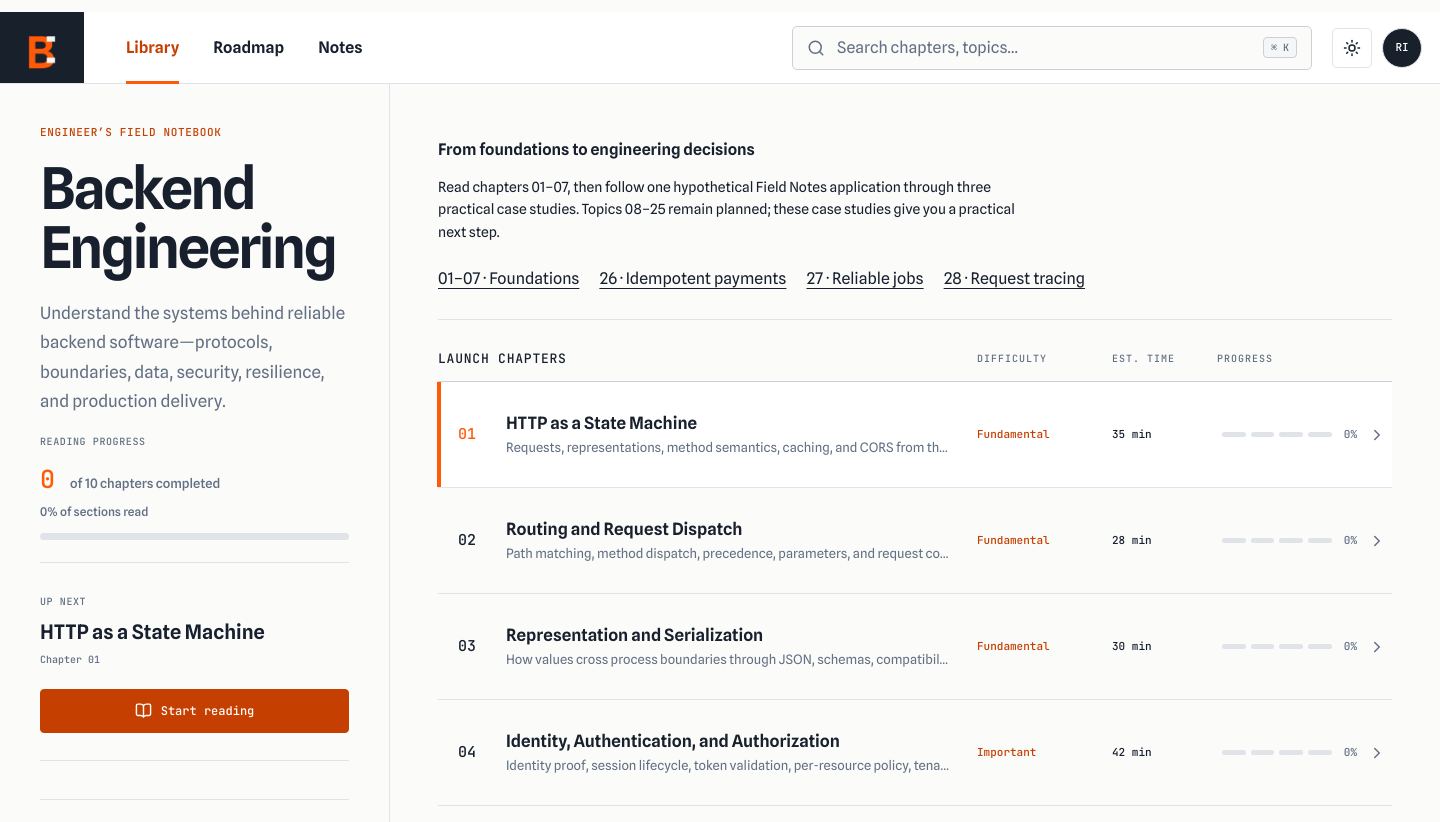
Test: Backend Engineering prototype › starts new readers and moves past completed chapters
Click the button named "Mark chapter 1 complete" at (1290, 435), box [1217, 416, 1362, 453]
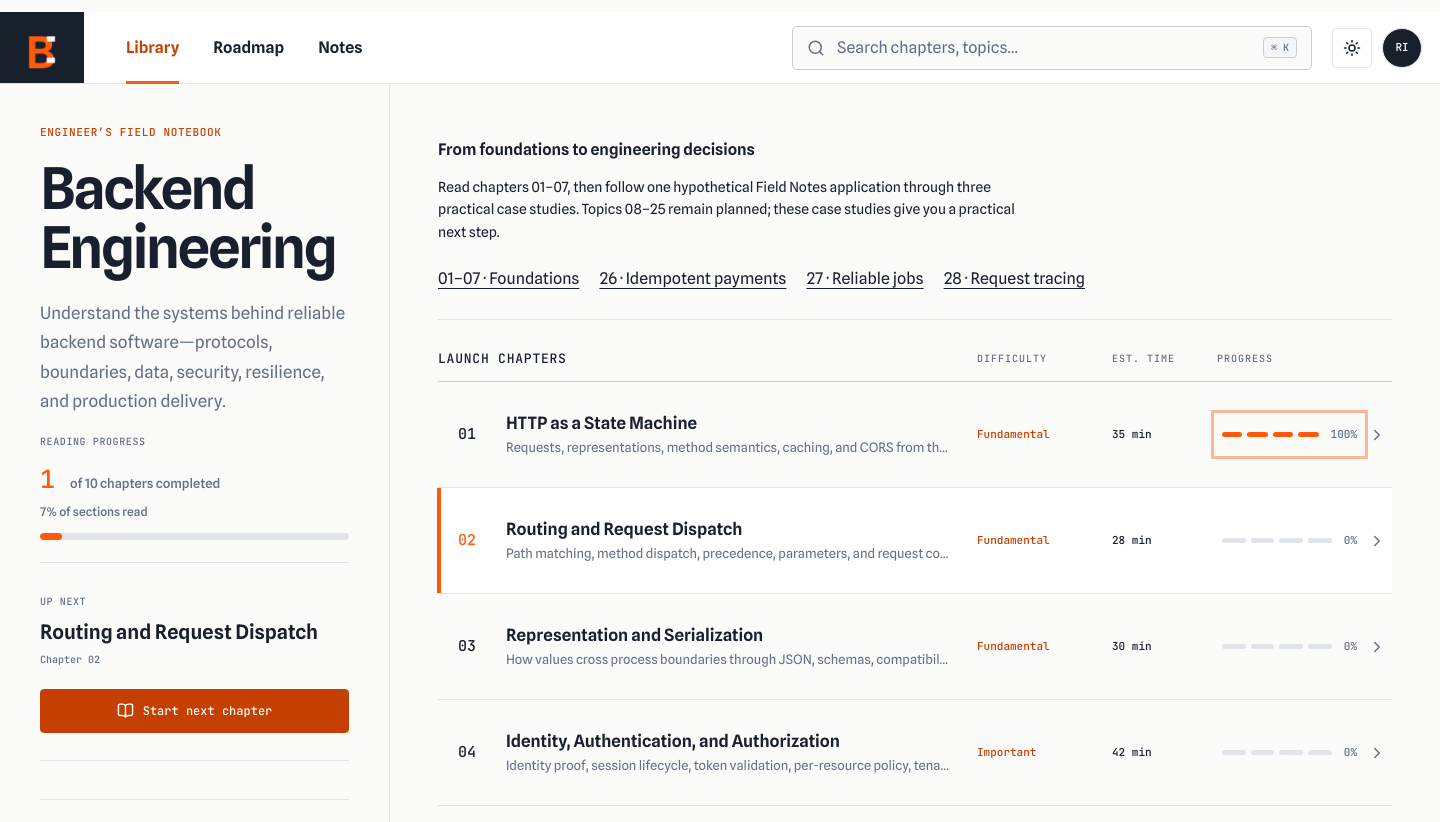
Expected: the text "of 10 chapters completed" is shown, [70, 475, 220, 491]
Now the text "7% of sections read" is shown, box [40, 504, 148, 519]
